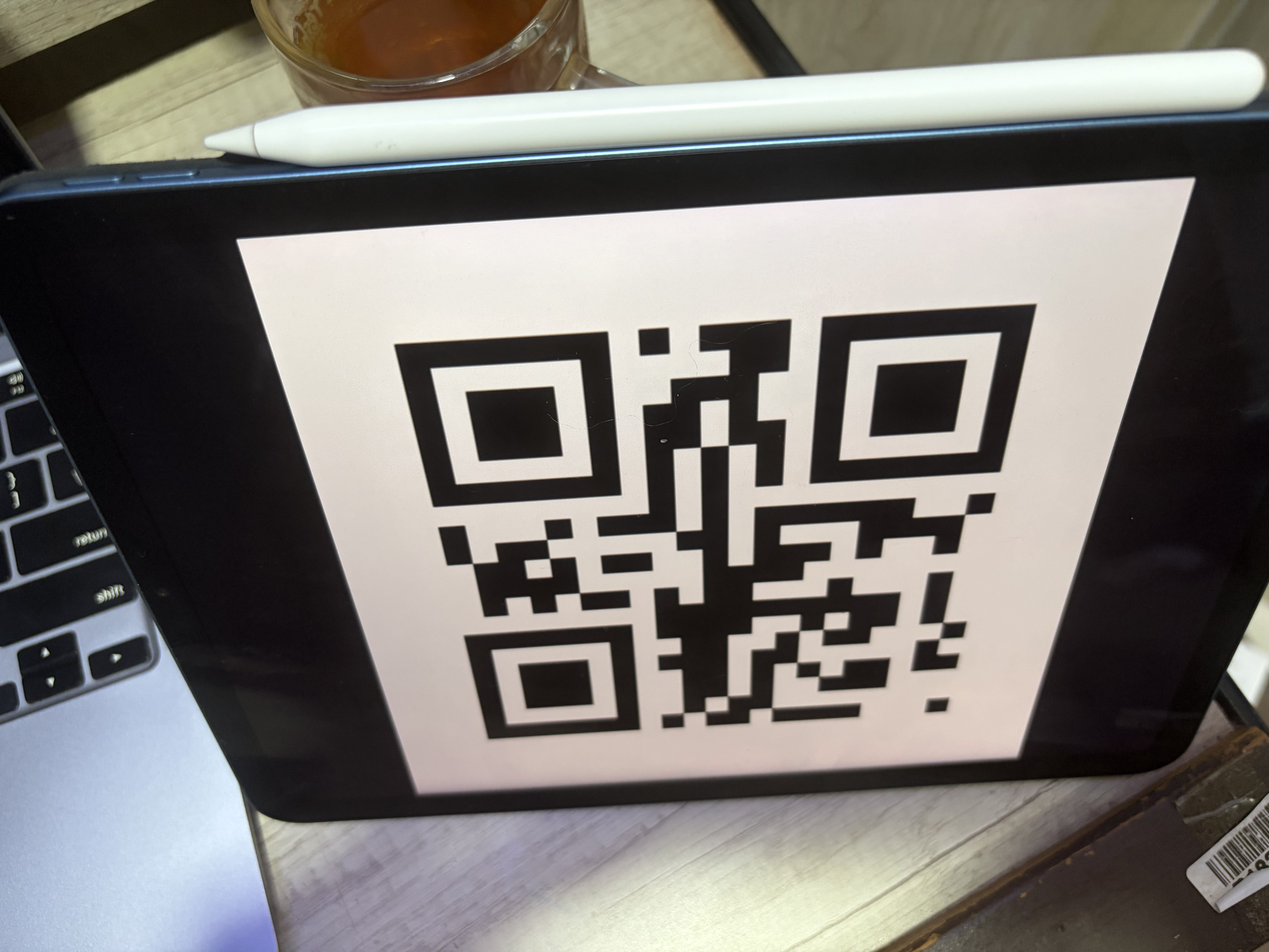QR: (399, 290, 995, 736)
